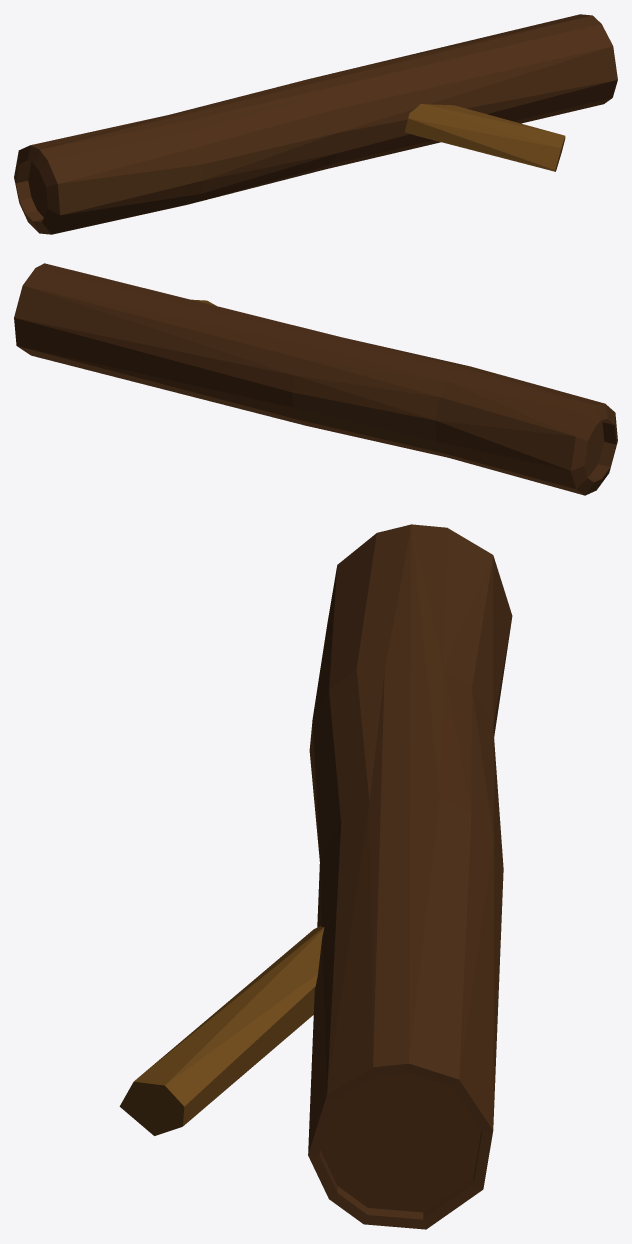
File: fallenTree.fbx
The picture shows the model from 3 angles, top to bottom: view 1: azimuth 30°, elevation 25°; view 2: azimuth 150°, elevation 25°; view 3: azimuth 270°, elevation 25°; orthographic projection. The views are drawn at different scales.
Visible parts, largest first — view 1: Cylinder; view 2: Cylinder; view 3: Cylinder.
Part boxes in pixels (bbox=[...]): Cylinder: bbox=[14, 14, 617, 234]; Cylinder: bbox=[14, 263, 617, 495]; Cylinder: bbox=[119, 524, 512, 1229].
Bounding box in the file's own units: 1400 × 205 × 426.
